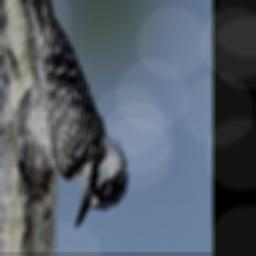Woodpecker: (0, 0, 129, 239)
